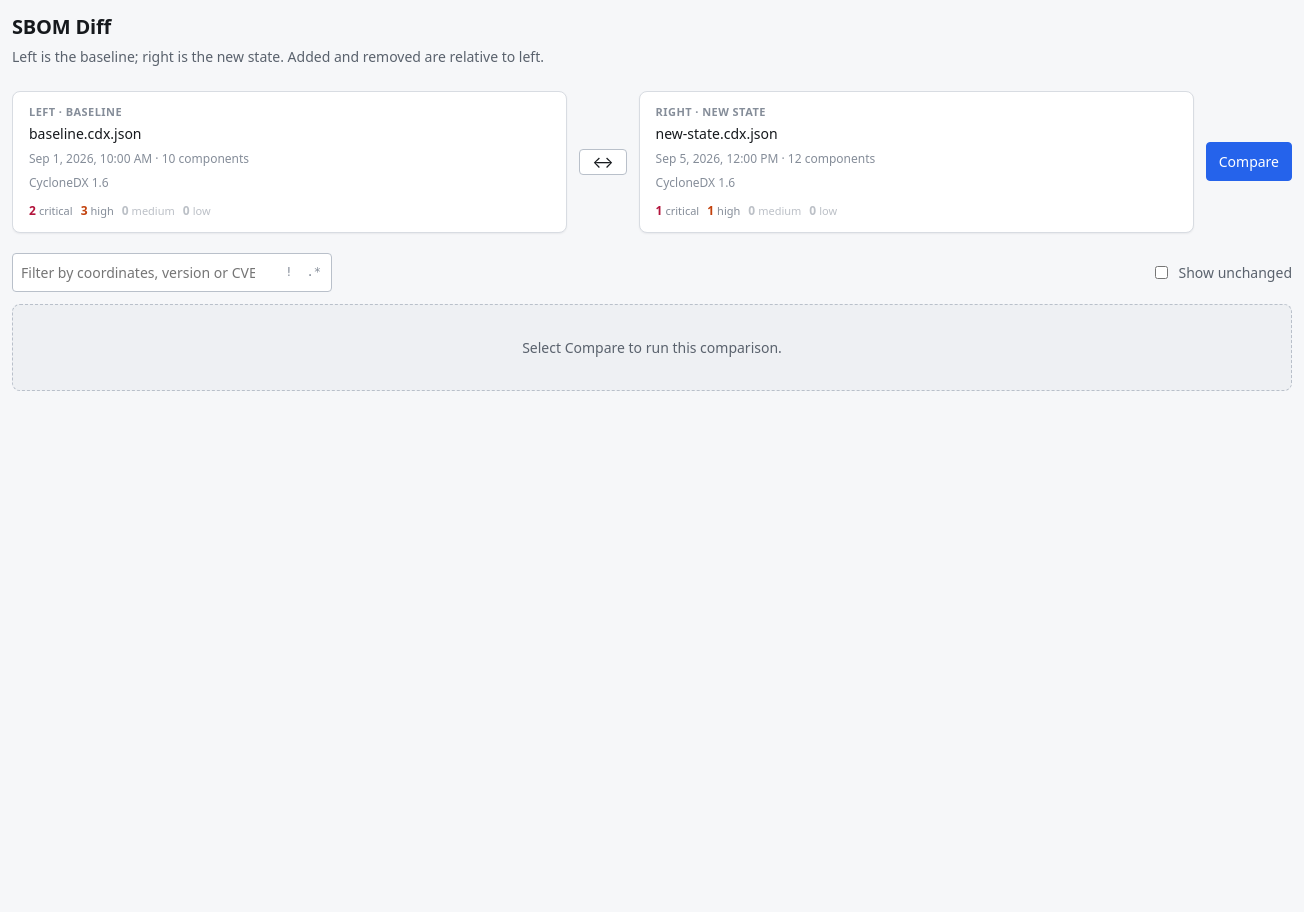
Test case: DiffPage › states both counts and their direction above the table
The image size is (1304, 912).
Click the button "Compare" at (1249, 162), box x1=1206 y1=142 x2=1292 y2=181
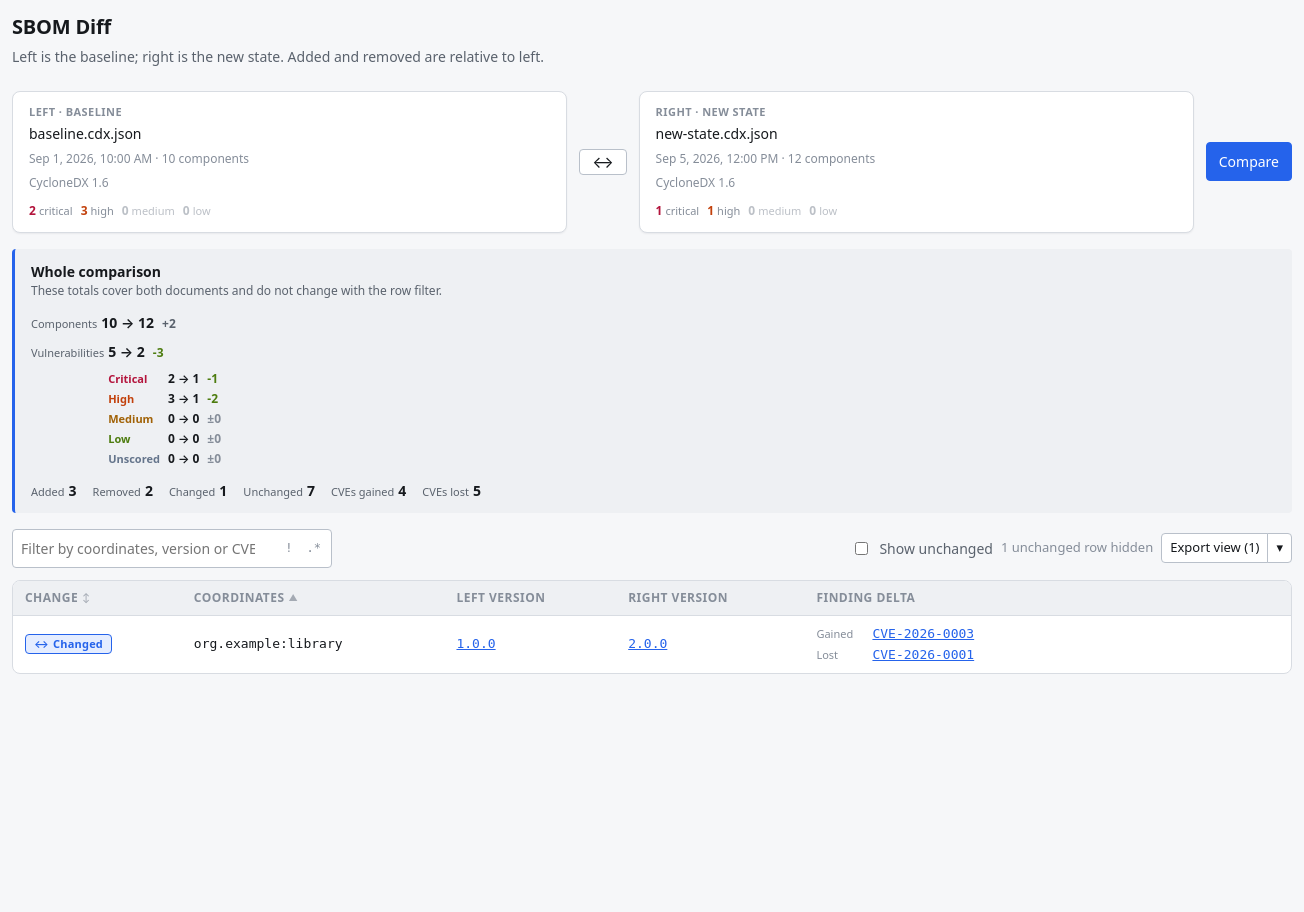
Now the text "org.example:library" is shown, box x1=182 y1=616 x2=444 y2=672
Now the text "Components" is shown, box x1=31 y1=316 x2=97 y2=332
Now the text "+2" is shown, box x1=162 y1=314 x2=176 y2=332
